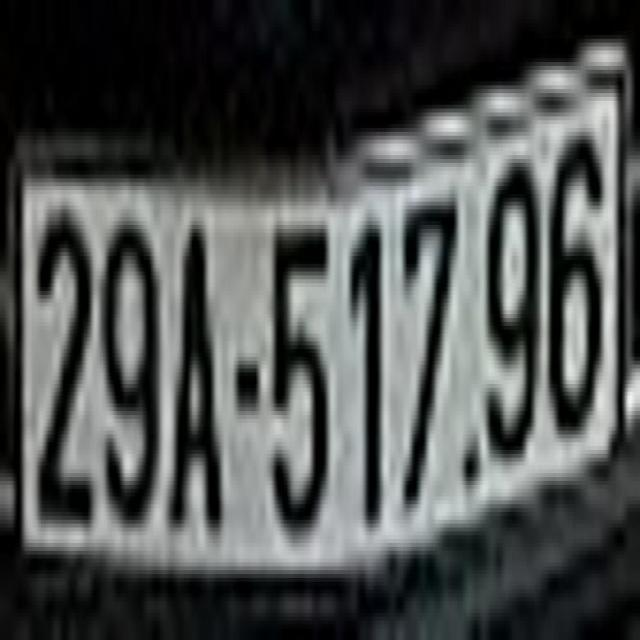1: (347, 213, 384, 528)
2: (34, 194, 94, 543)
5: (269, 217, 332, 535)
6: (546, 128, 604, 446)
7: (400, 190, 460, 524)
9: (482, 159, 542, 493), (102, 210, 160, 528)
A: (168, 213, 222, 551)
